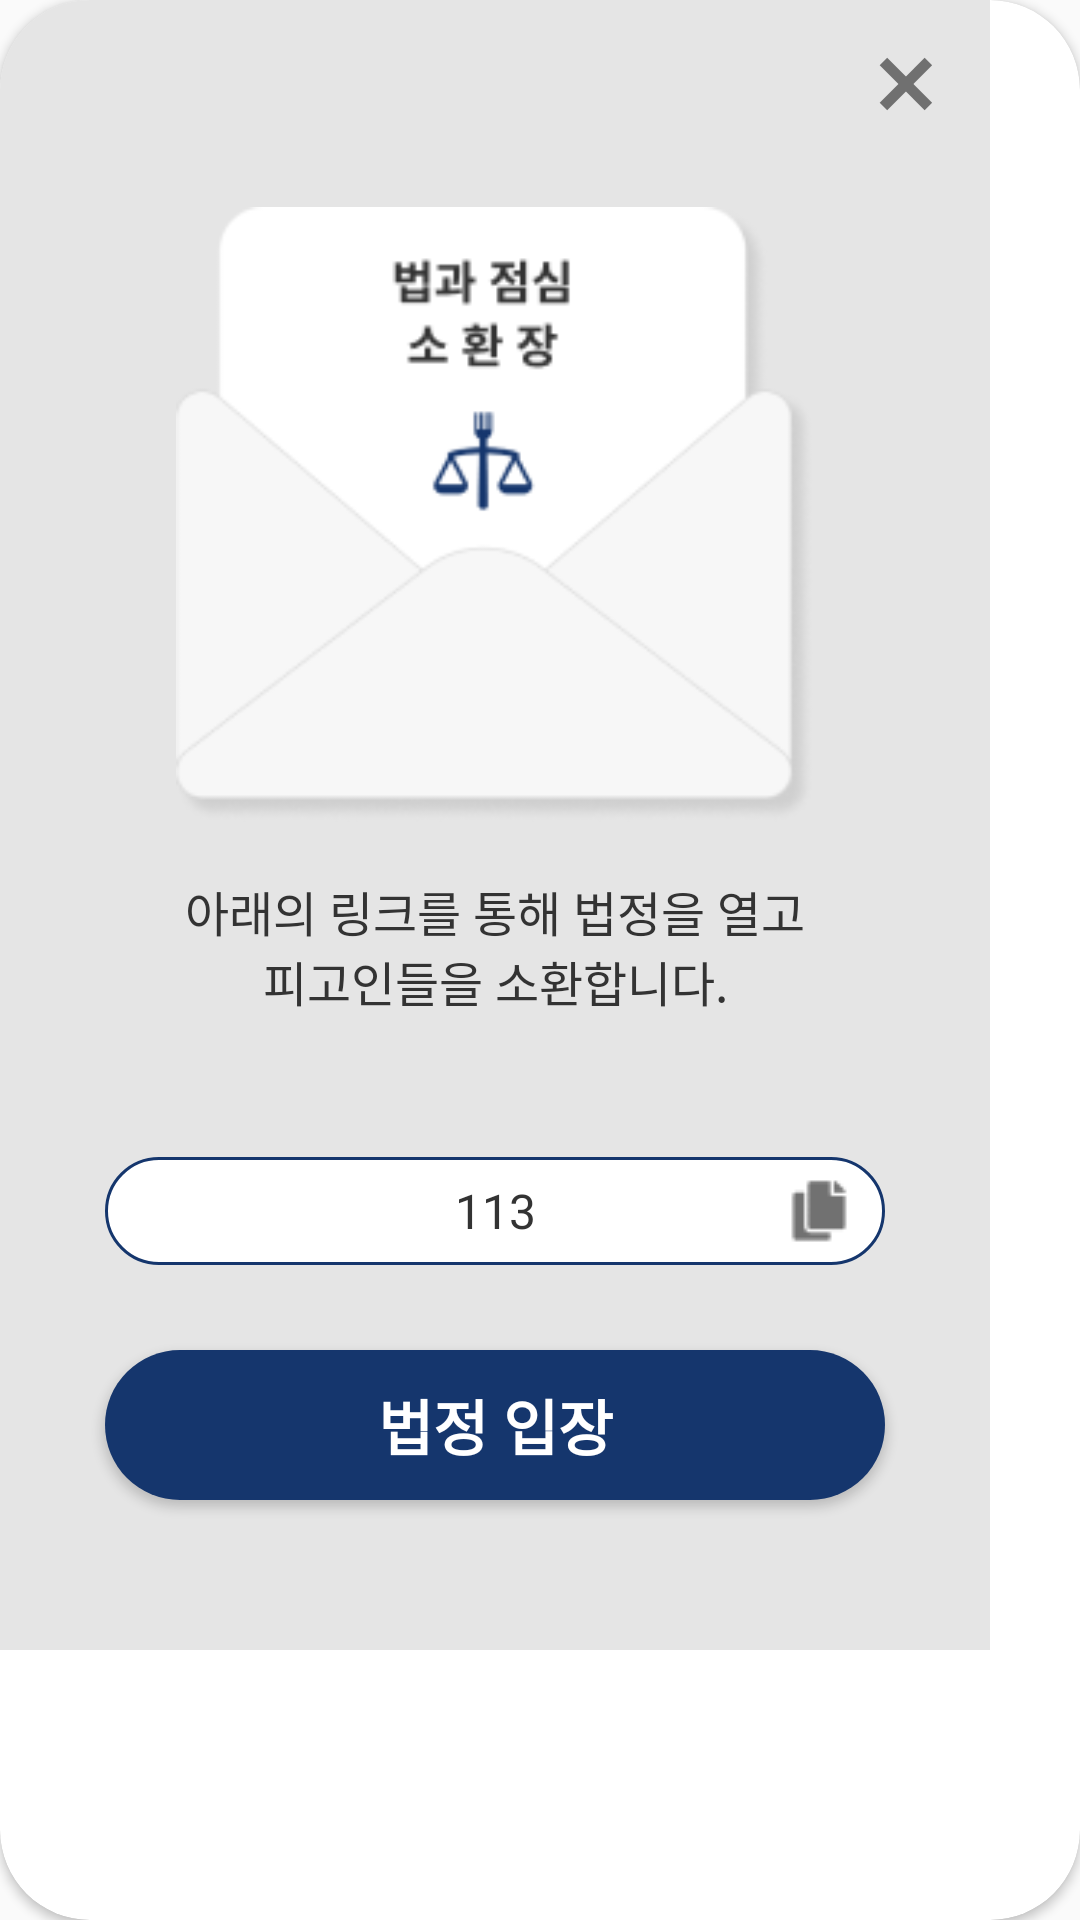

Point at icon controls on the screen. Image size 1080px×1920px, points as [x,y].
close: [906,84]
